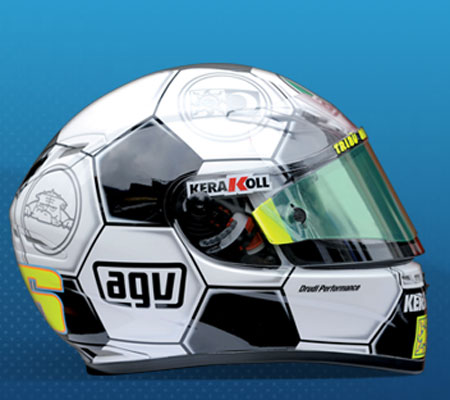helmet: (13, 91, 436, 370)
